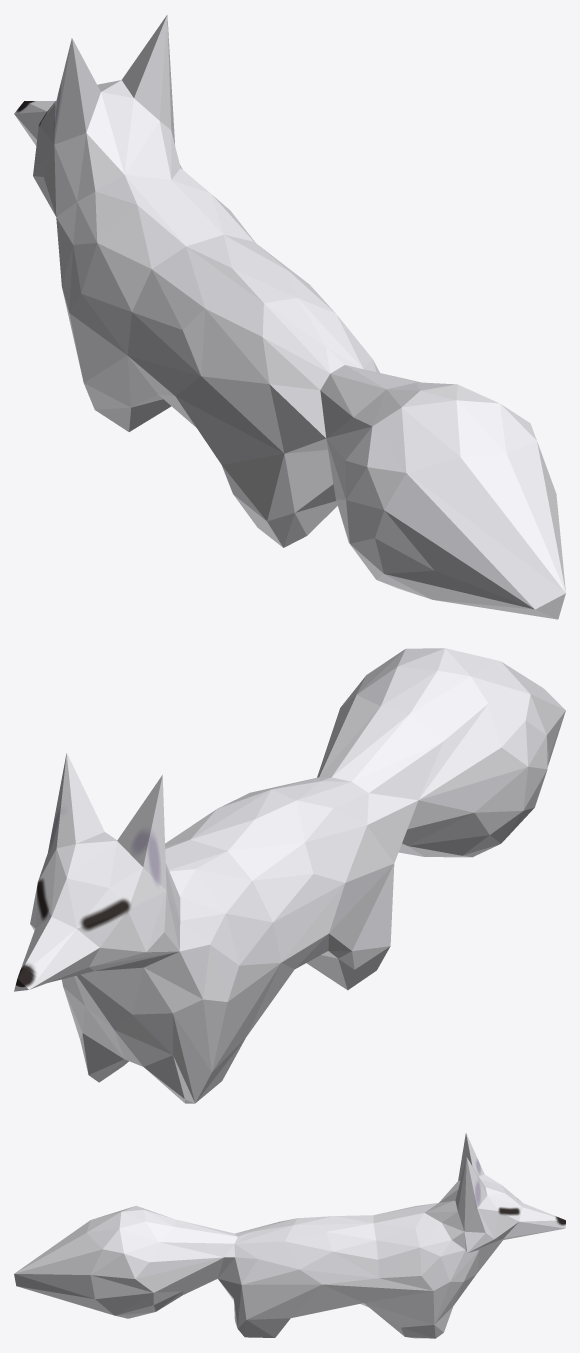
The model's file is animal_fox_arctic_blob.obj.
3 renders of one model, top to bottom at view 1: azimuth 30°, elevation 25°; view 2: azimuth 150°, elevation 25°; view 3: azimuth 270°, elevation 25°, orthographic. The views are drawn at different scales.
Visible parts, largest first — view 1: animal_fox_arctic_blob; view 2: animal_fox_arctic_blob; view 3: animal_fox_arctic_blob.
Boxes of the visible parts, box(x1,y1,x2,y2) form: animal_fox_arctic_blob: box(14, 15, 565, 619); animal_fox_arctic_blob: box(14, 648, 565, 1103); animal_fox_arctic_blob: box(14, 1133, 565, 1338).
Size of the model in its own units: 0.2928 by 0.5254 by 1.44.
